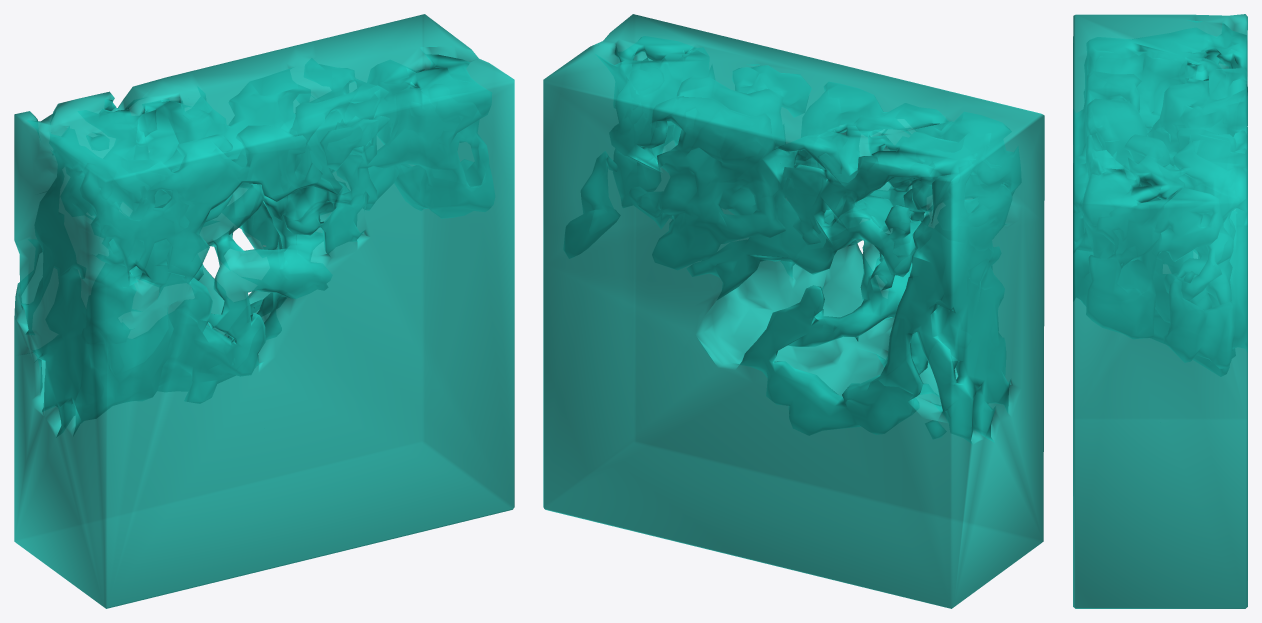
3 views of the same model, side by side, from view 1: azimuth 30°, elevation 25°; view 2: azimuth 150°, elevation 25°; view 3: azimuth 270°, elevation 25° (orthographic). The views are drawn at different scales.
Parts seen in each view (by area): view 1: Liquid_Domain; view 2: Liquid_Domain; view 3: Liquid_Domain.
Boxes of the visible parts, x1=… form: Liquid_Domain: x1=14, y1=14, x2=514, y2=608; Liquid_Domain: x1=543, y1=14, x2=1044, y2=608; Liquid_Domain: x1=1073, y1=14, x2=1247, y2=608.
Size of the model in its own units: 884 by 884 by 345.
